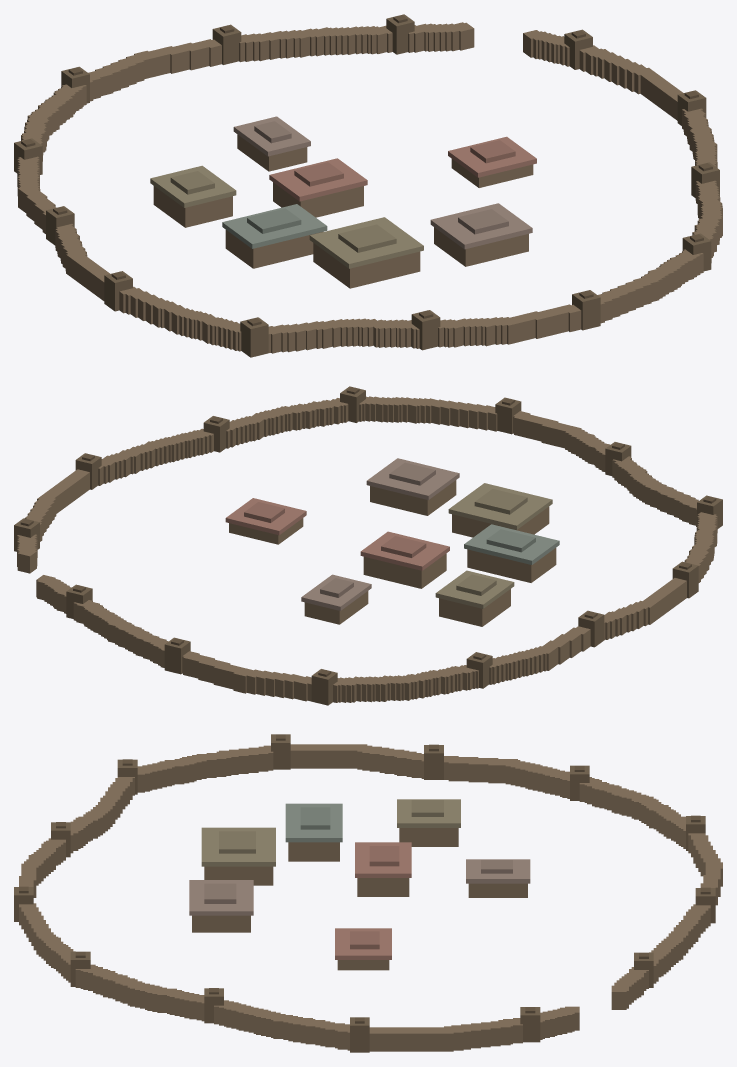
Rendered from ciudad_campamento_barbaros_grande_1036_2442_01.glb.
3 views of the same model, one above another, from view 1: azimuth 30°, elevation 25°; view 2: azimuth 150°, elevation 25°; view 3: azimuth 270°, elevation 25° (orthographic). The views are drawn at different scales.
Parts seen in each view (by area): view 1: ciudad_campamento_barbaros_grande_1036_2442; view 2: ciudad_campamento_barbaros_grande_1036_2442; view 3: ciudad_campamento_barbaros_grande_1036_2442.
Boxes of the visible parts, x1,y1,x2,y2 form: ciudad_campamento_barbaros_grande_1036_2442: (14,14,722,357); ciudad_campamento_barbaros_grande_1036_2442: (14,386,722,705); ciudad_campamento_barbaros_grande_1036_2442: (14,734,722,1052).
Bounding box in the file's own units: 69.75 × 3.25 × 71.75.
